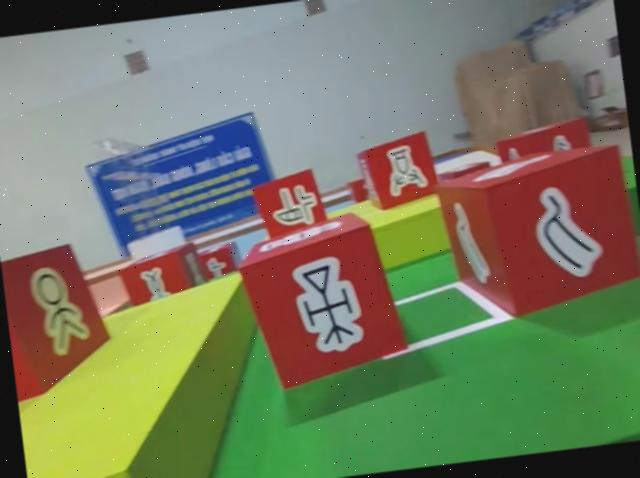R2 Real: (434, 138, 640, 328), (235, 205, 409, 399), (0, 237, 118, 401), (357, 126, 443, 215), (115, 237, 209, 315), (246, 165, 331, 250)
